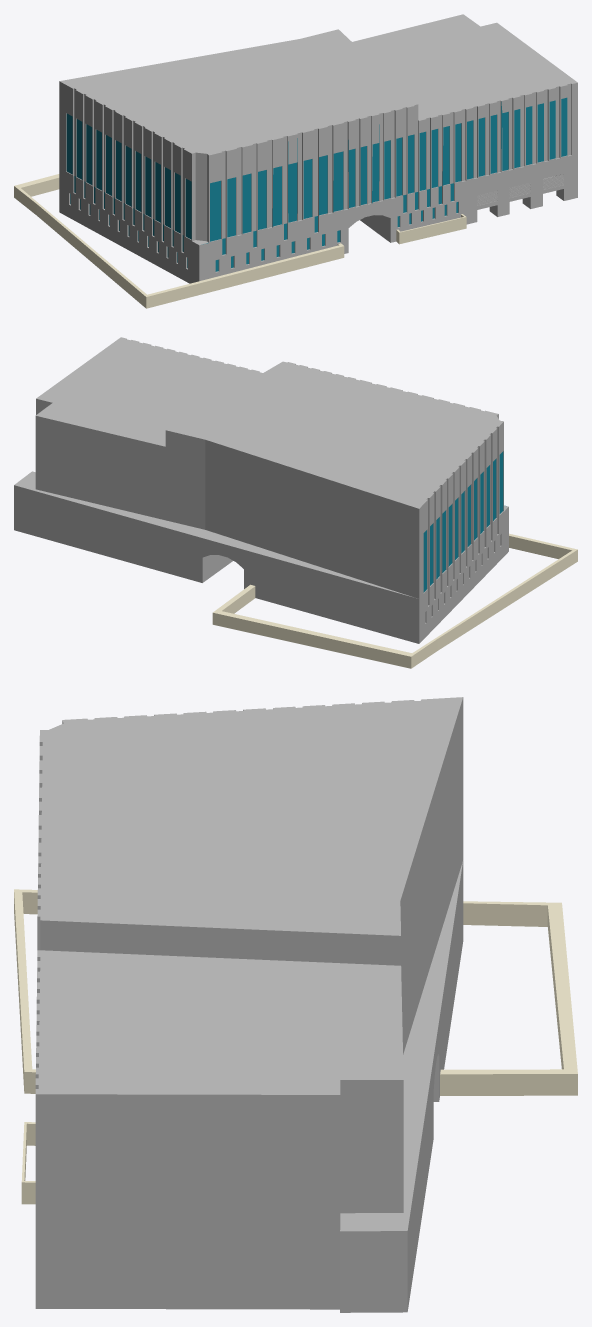
File: Dithridge.fbx
The picture shows the model from 3 angles, top to bottom: view 1: azimuth 30°, elevation 25°; view 2: azimuth 150°, elevation 25°; view 3: azimuth 270°, elevation 25°; orthographic projection. The views are drawn at different scales.
Visible parts, largest first — view 1: S Dithridge St Building 1 v1; view 2: S Dithridge St Building 1 v1; view 3: S Dithridge St Building 1 v1.
Part boxes in pixels (bbox=[...]): S Dithridge St Building 1 v1: bbox=[14, 14, 577, 308]; S Dithridge St Building 1 v1: bbox=[14, 337, 577, 668]; S Dithridge St Building 1 v1: bbox=[14, 697, 577, 1312].
Size of the model in its own units: 6266 by 1777 by 3717.
